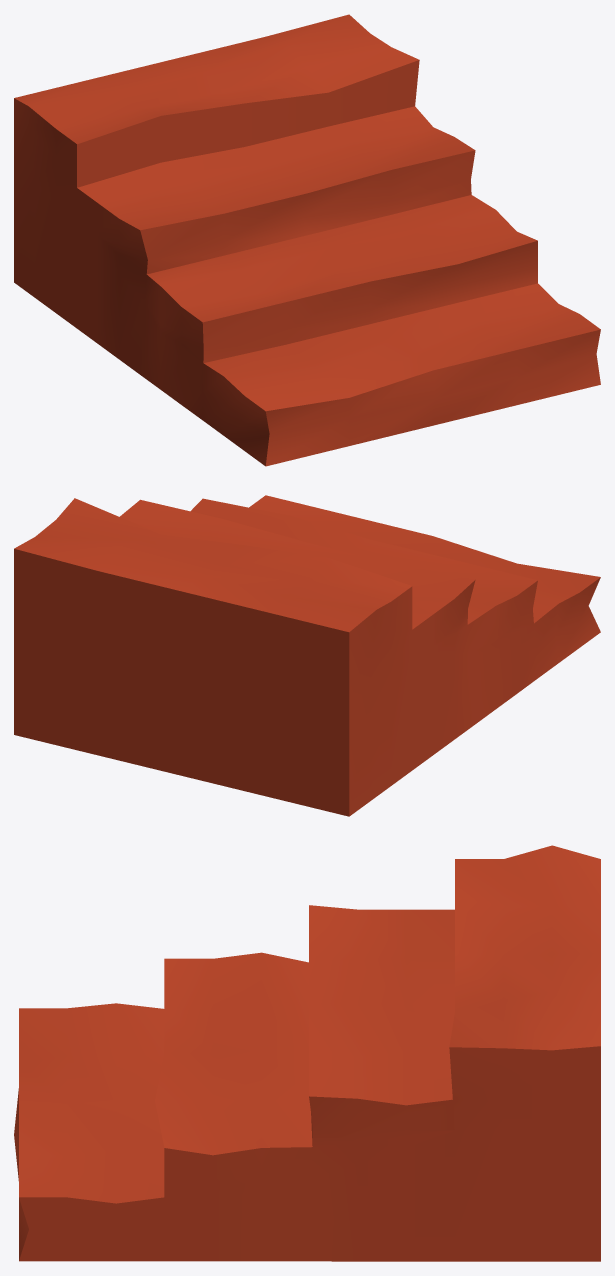
Rendered from Stairs-2.FBX.
3 views of the same model, one above another, from view 1: azimuth 30°, elevation 25°; view 2: azimuth 150°, elevation 25°; view 3: azimuth 270°, elevation 25° (orthographic). The views are drawn at different scales.
Parts seen in each view (by area): view 1: Stairs; view 2: Stairs; view 3: Stairs.
Boxes of the visible parts, bbox=[...] form: Stairs: bbox=[14, 14, 600, 466]; Stairs: bbox=[14, 495, 600, 816]; Stairs: bbox=[14, 845, 600, 1261].
Size of the model in its own units: 58.95 by 31.42 by 74.82.
